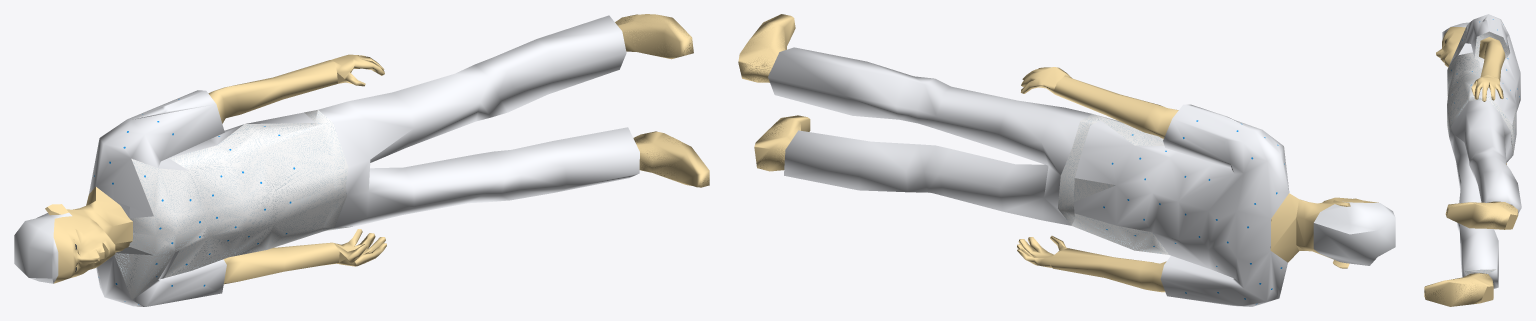
The model's file is patient_2_state_2.dae.
The picture shows the model from 3 angles, left to right: view 1: azimuth 30°, elevation 25°; view 2: azimuth 150°, elevation 25°; view 3: azimuth 270°, elevation 25°; orthographic projection. The views are drawn at different scales.
Visible parts, largest first — view 1: coords_ME_ID21_MA_material_2, coords_ME_ID3_MA_material, coords_ME_ID37_MA_material_2, coords_ME_ID3_MA_material_0, coords_ME_ID431_MA_material_1, coords_ME_ID215_MA_material_1, coords_ME_ID13_MA_material_1, coords_ME_ID101_MA_material_3, coords_ME_ID29_MA_material_3, coords_ME_ID451_MA_material_7; view 2: coords_ME_ID21_MA_material_2, coords_ME_ID37_MA_material_2, coords_ME_ID3_MA_material, coords_ME_ID451_MA_material_7, coords_ME_ID215_MA_material_1, coords_ME_ID13_MA_material_1, coords_ME_ID431_MA_material_1, coords_ME_ID29_MA_material_3, coords_ME_ID101_MA_material_3, coords_ME_ID3_MA_material_0; view 3: coords_ME_ID21_MA_material_2, coords_ME_ID37_MA_material_2, coords_ME_ID3_MA_material, coords_ME_ID101_MA_material_3, coords_ME_ID29_MA_material_3, coords_ME_ID215_MA_material_1, coords_ME_ID3_MA_material_0, coords_ME_ID431_MA_material_1, coords_ME_ID191_MA_material, coords_ME_ID263_MA_material_1, coords_ME_ID77_MA_material_1, coords_ME_ID281_MA_material (+2 smaller).
Boxes of the visible parts, left/top/right/bottom form: coords_ME_ID21_MA_material_2: left=318, top=15, right=639, bottom=227; coords_ME_ID3_MA_material: left=114, top=110, right=352, bottom=299; coords_ME_ID37_MA_material_2: left=89, top=90, right=314, bottom=306; coords_ME_ID3_MA_material_0: left=116, top=111, right=346, bottom=295; coords_ME_ID431_MA_material_1: left=45, top=187, right=132, bottom=283; coords_ME_ID215_MA_material_1: left=208, top=54, right=384, bottom=123; coords_ME_ID13_MA_material_1: left=223, top=229, right=386, bottom=284; coords_ME_ID101_MA_material_3: left=633, top=131, right=709, bottom=187; coords_ME_ID29_MA_material_3: left=615, top=14, right=693, bottom=59; coords_ME_ID451_MA_material_7: left=14, top=212, right=71, bottom=283; coords_ME_ID21_MA_material_2: left=768, top=47, right=1091, bottom=225; coords_ME_ID37_MA_material_2: left=1073, top=104, right=1288, bottom=306; coords_ME_ID3_MA_material: left=1058, top=114, right=1168, bottom=254; coords_ME_ID451_MA_material_7: left=1313, top=201, right=1395, bottom=265; coords_ME_ID215_MA_material_1: left=1020, top=67, right=1178, bottom=138; coords_ME_ID13_MA_material_1: left=1017, top=236, right=1166, bottom=292; coords_ME_ID431_MA_material_1: left=1270, top=193, right=1378, bottom=268; coords_ME_ID29_MA_material_3: left=738, top=14, right=795, bottom=82; coords_ME_ID101_MA_material_3: left=754, top=115, right=810, bottom=171; coords_ME_ID3_MA_material_0: left=1058, top=114, right=1166, bottom=253; coords_ME_ID21_MA_material_2: left=1449, top=99, right=1521, bottom=288; coords_ME_ID37_MA_material_2: left=1458, top=14, right=1520, bottom=147; coords_ME_ID3_MA_material: left=1447, top=25, right=1516, bottom=154; coords_ME_ID101_MA_material_3: left=1424, top=273, right=1493, bottom=306; coords_ME_ID29_MA_material_3: left=1445, top=201, right=1518, bottom=229; coords_ME_ID215_MA_material_1: left=1471, top=37, right=1505, bottom=101; coords_ME_ID3_MA_material_0: left=1447, top=31, right=1515, bottom=147; coords_ME_ID431_MA_material_1: left=1436, top=27, right=1465, bottom=67; coords_ME_ID191_MA_material: left=1474, top=31, right=1509, bottom=62; coords_ME_ID263_MA_material_1: left=1480, top=286, right=1493, bottom=303; coords_ME_ID77_MA_material_1: left=1505, top=214, right=1517, bottom=229; coords_ME_ID281_MA_material: left=1464, top=269, right=1496, bottom=274.
Bounding box in the file's own units: 18.54 × 5.65 × 3.5.
